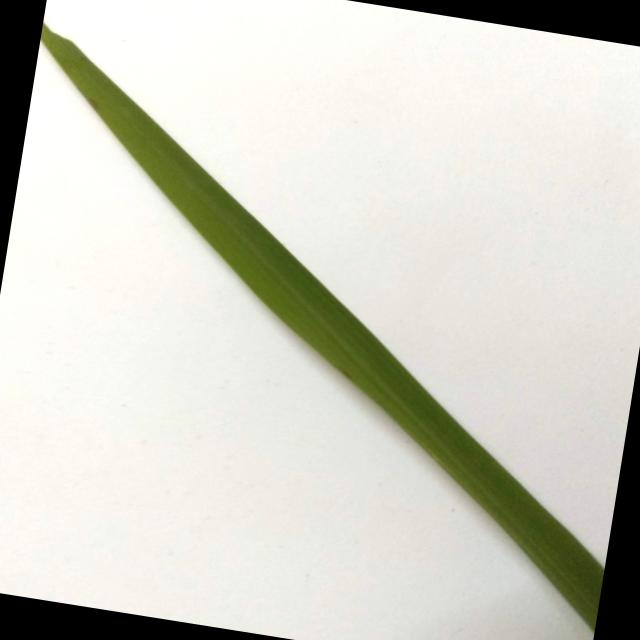Rice_Healthy: (40, 24, 604, 631)
